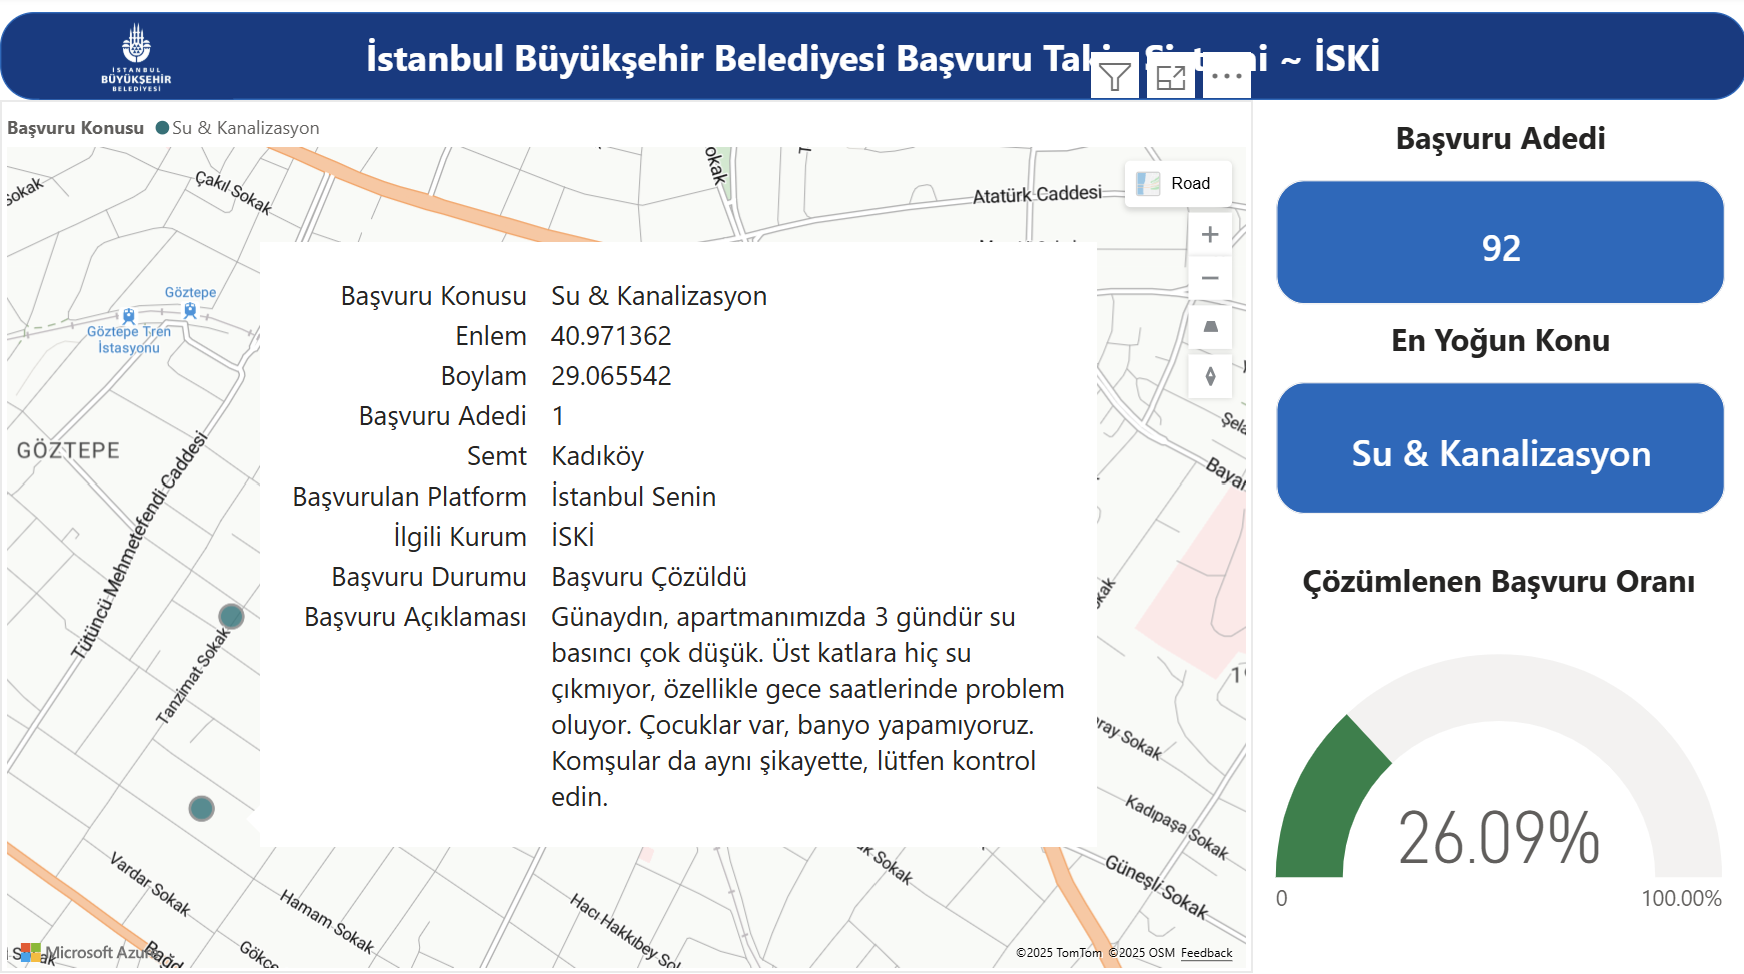

This screenshot's page, from the dashboard's own definition file:
{"tool":"powerbi","page":{"name":"İSKİ","canvas":[1280,720],"ordinal":1},"visuals":[{"type":"cardVisual","title":"Başvuru Adedi","fields":{"Data":["CountNonNull(public complaints.complaint_id)"]},"box":[917.4,88.8,363.1,156],"z":1000,"group":"g1"},{"type":"group","id":"g1","title":"Group 1","box":[917.4,88.8,364.4,310],"z":1000},{"type":"textbox","box":[0,12.9,1280,64.5],"z":2000},{"type":"gauge","title":"Çözümlenen Başvuru Oranı","fields":{"Y":["public complaints.Çözümlenen Başvuru Oranıı %"],"MinValue":["public complaints.Gauge Minn"],"MaxValue":["public complaints.Gauge Maxx"]},"box":[930.1,413.4,337.2,304.6],"z":3000},{"type":"image","box":[24.3,14.1,149.8,62.7],"z":4000},{"type":"cardVisual","title":"En Yoğun Konu","fields":{"Data":["public complaints.En Yoğun Kategori"]},"box":[917.4,236.7,363.1,160.8],"z":4000,"group":"g1"},{"type":"azureMap","fields":{"Y":["public complaints.latitude"],"X":["public complaints.longitude"],"Size":["CountNonNull(public complaints.complaint_id)"],"Series":["public departments.Category_Display"]},"box":[0,77.5,917.7,640],"z":4001}]}

Visuals, with their boxes in screenshot pixels (x1, y1, x2, y2), scaled from the page's 1280x720 canvas onto the 1744x974 screenshot:
"Başvuru Adedi" cardVisual: x1=1250 y1=120 x2=1743 y2=331
"Group 1" group: x1=1250 y1=120 x2=1743 y2=539
textbox: x1=0 y1=17 x2=1743 y2=105
"Çözümlenen Başvuru Oranı" gauge: x1=1267 y1=559 x2=1727 y2=971
image: x1=33 y1=19 x2=237 y2=104
"En Yoğun Konu" cardVisual: x1=1250 y1=320 x2=1743 y2=538
azureMap - public complaints.latitude x public complaints.longitude: x1=0 y1=105 x2=1250 y2=971
